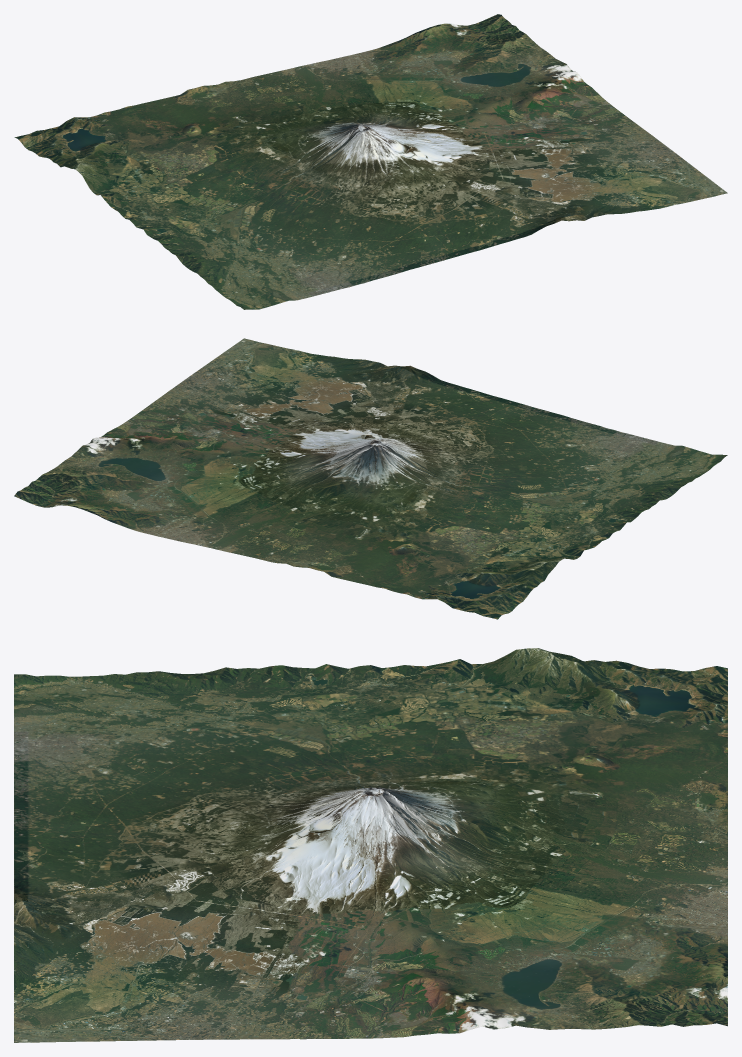
File: mount_fuji_volcano_wide_area_model_-_japan.glb
3 views of the same model, one above another, from view 1: azimuth 30°, elevation 25°; view 2: azimuth 150°, elevation 25°; view 3: azimuth 270°, elevation 25° (orthographic). The views are drawn at different scales.
Visible parts, largest first — view 1: skfb_offset; view 2: skfb_offset; view 3: skfb_offset.
Part boxes in pixels (bbox=[...]): skfb_offset: bbox=[14, 14, 727, 309]; skfb_offset: bbox=[14, 338, 727, 619]; skfb_offset: bbox=[14, 648, 727, 1042].
Bounding box in the file's own units: 41582 × 3573 × 34244.
Materials: 1 (1 with a texture image).
